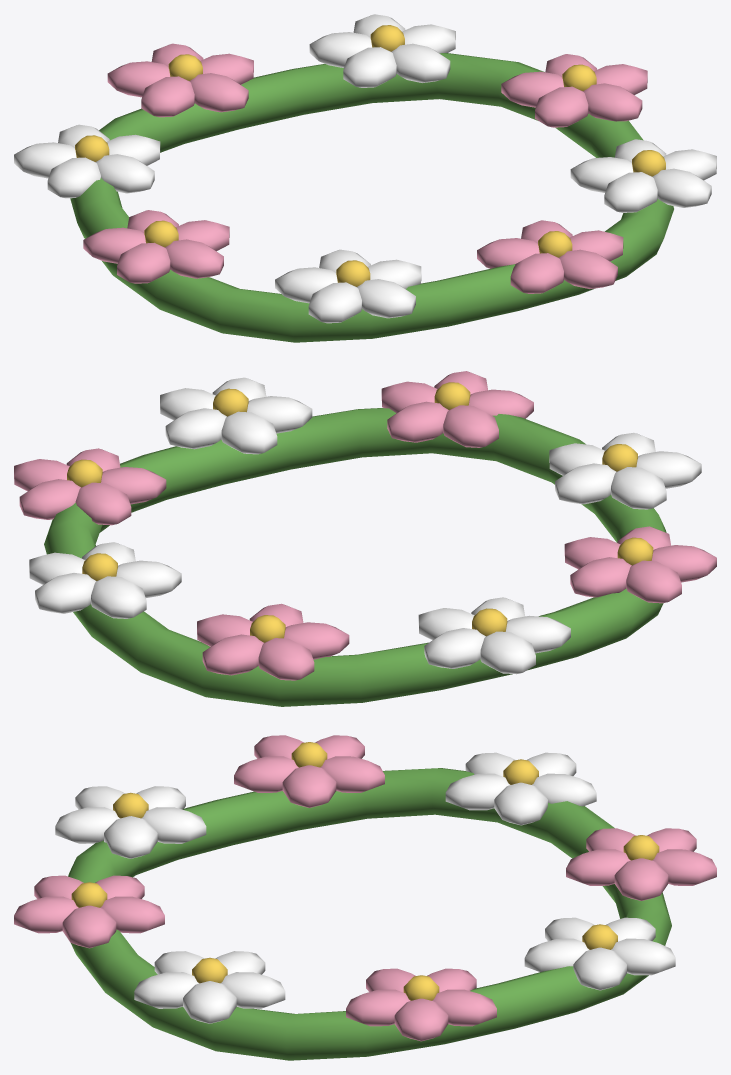
File: event-flower-crown.glb
The picture shows the model from 3 angles, top to bottom: view 1: azimuth 30°, elevation 25°; view 2: azimuth 150°, elevation 25°; view 3: azimuth 270°, elevation 25°; orthographic projection. The views are drawn at different scales.
Parts seen in each view (by area): view 1: crown; view 2: crown; view 3: crown.
Boxes of the visible parts, x1,y1,x2,y2 form: crown: (14,14,716,342); crown: (14,371,716,706); crown: (14,735,716,1060).
Bounding box in the file's own units: 0.4458 × 0.062 × 0.4493.
